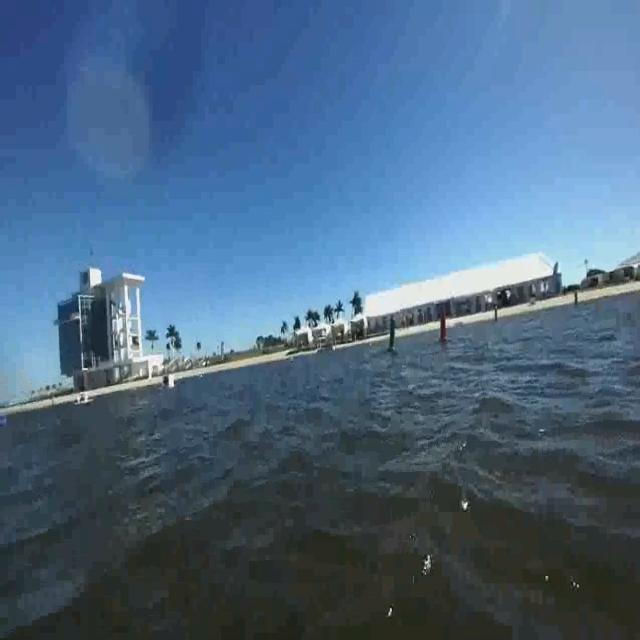green-column-buoy: (386, 307, 398, 357)
red-column-buoy: (438, 305, 452, 353)
